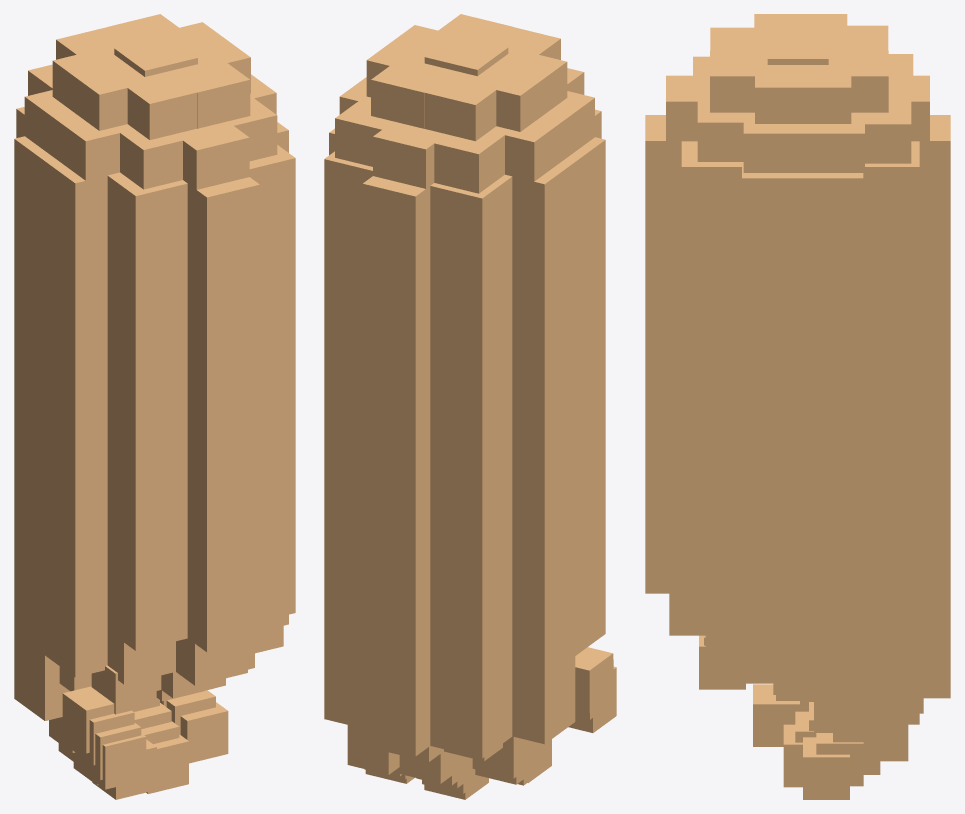
The model's file is brazo_Der.obj.
3 views of the same model, side by side, from view 1: azimuth 30°, elevation 25°; view 2: azimuth 150°, elevation 25°; view 3: azimuth 270°, elevation 25° (orthographic).
Visible parts, largest first — view 1: Box2247; view 2: Box2247; view 3: Box2247.
Boxes of the visible parts, x1=… form: Box2247: x1=14, y1=14, x2=295, y2=799; Box2247: x1=324, y1=14, x2=616, y2=799; Box2247: x1=645, y1=14, x2=950, y2=799.
Size of the model in its own units: 0.3984 by 1.3 by 0.4925.
